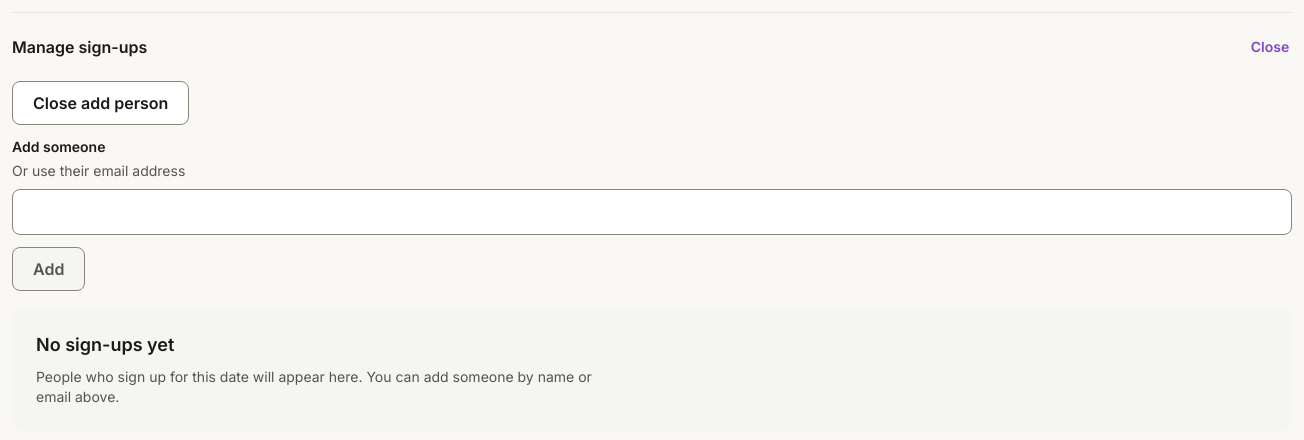
Test: asks email approval refusals to use name selection, without reconstructing a token
Type "known@example.com" into the field labelled "Add someone". click: (652, 212)
box: [12,189,1292,235]
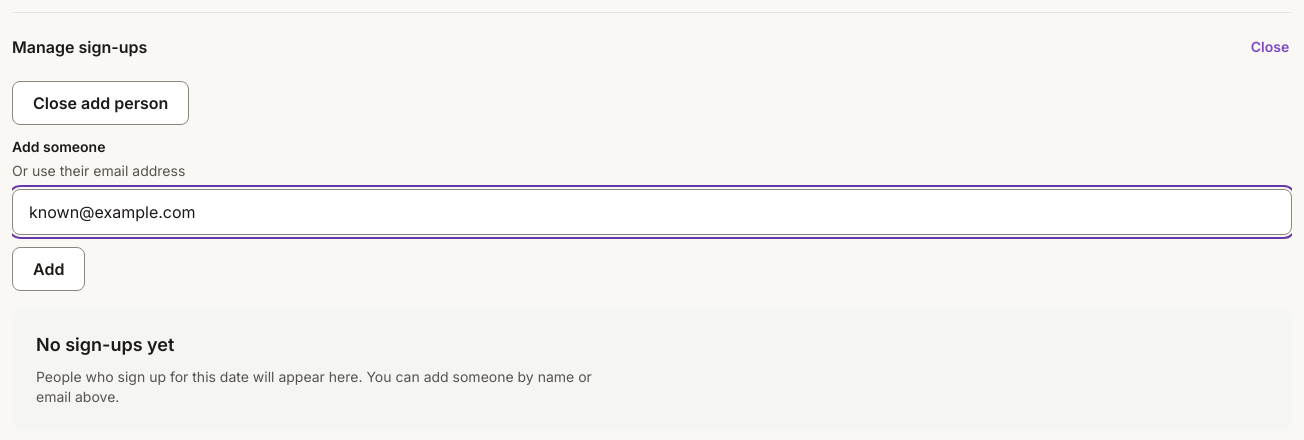
Click the button "Add". click: click(49, 269)
box: [12,247,85,291]
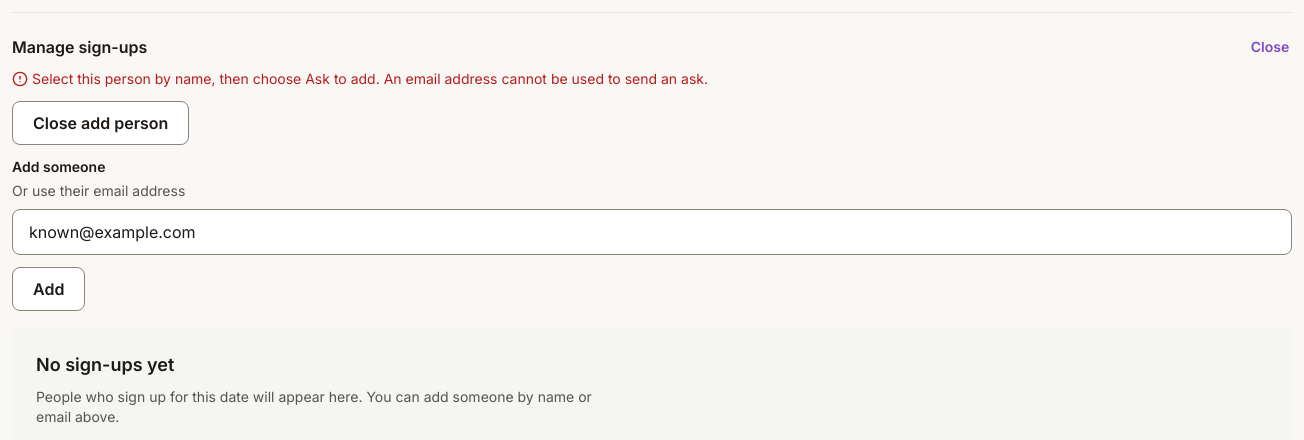
Expected: the message shows "Select this person by name", [32,70,708,87]
